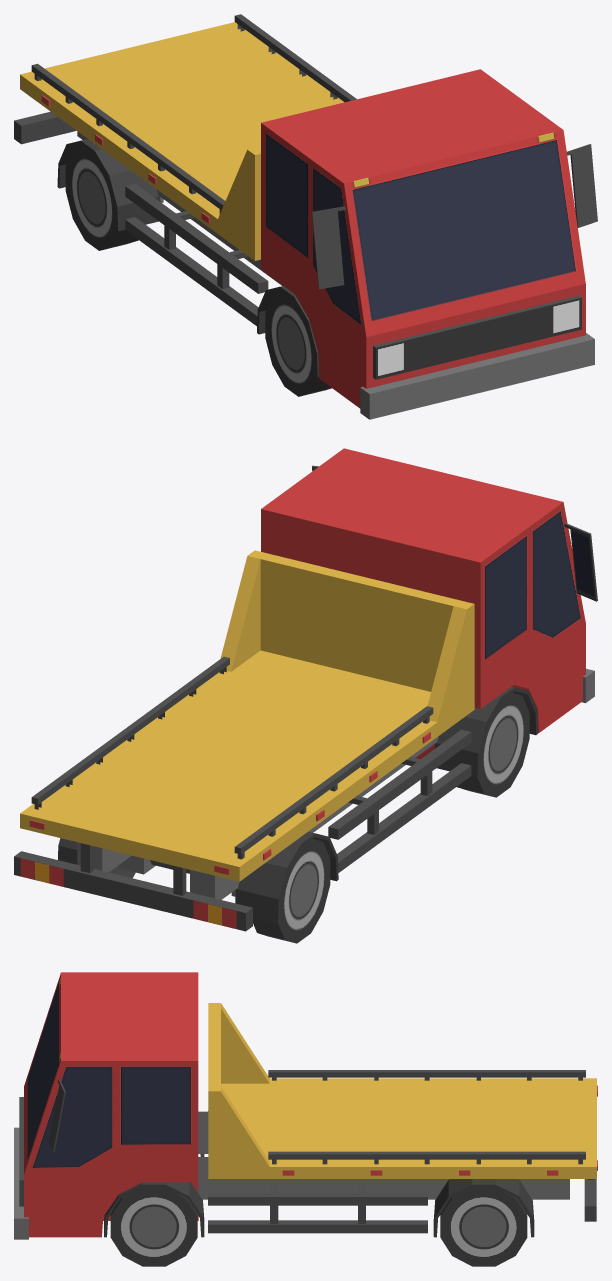
The model's file is Lorry_002.fbx.
The picture shows the model from 3 angles, top to bottom: view 1: azimuth 30°, elevation 25°; view 2: azimuth 150°, elevation 25°; view 3: azimuth 270°, elevation 25°; orthographic projection. The views are drawn at different scales.
Parts seen in each view (by area): view 1: Lorry_002; view 2: Lorry_002; view 3: Lorry_002.
Boxes of the visible parts, box(x1,y1,x2,y2) form: Lorry_002: box(14, 14, 597, 419); Lorry_002: box(14, 448, 597, 943); Lorry_002: box(14, 972, 597, 1266).
Bounding box in the file's own units: 328 × 281 × 719.
